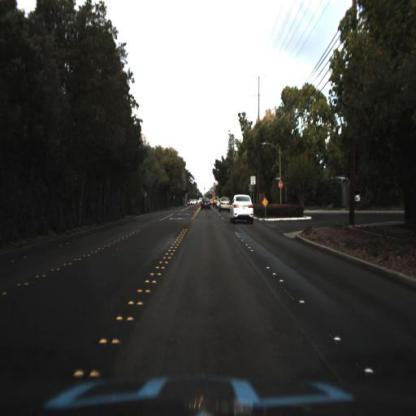car: (229, 193, 258, 228), (201, 200, 213, 216), (219, 196, 230, 212)
